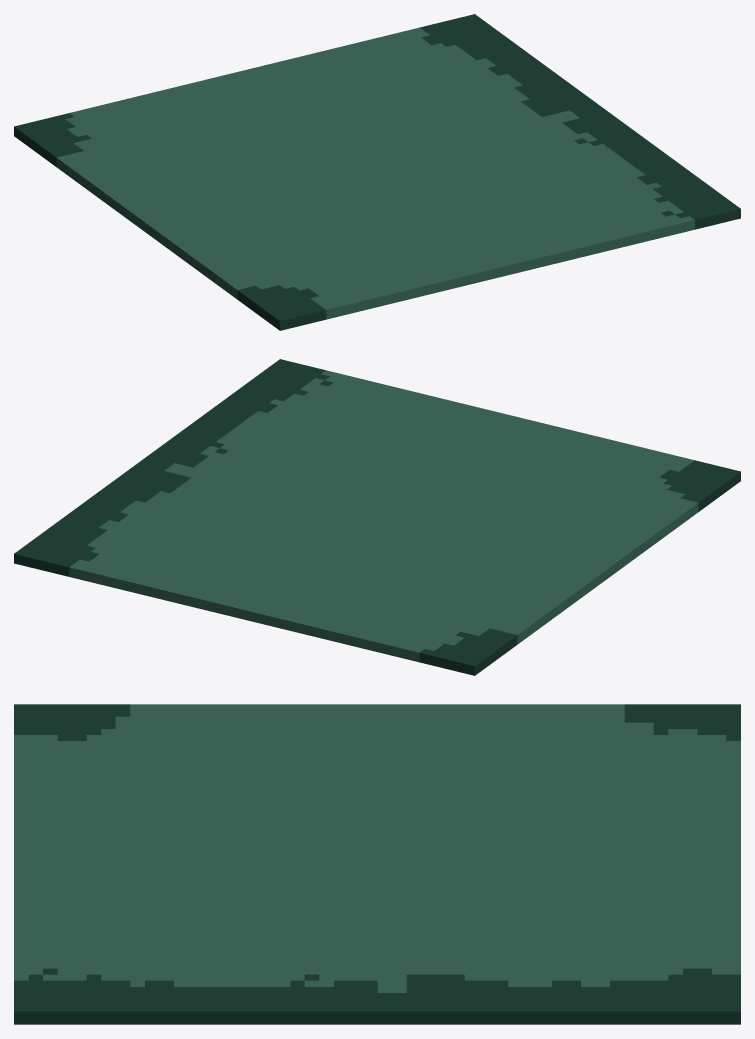
The model's file is ThreeGround.obj.
3 views of the same model, one above another, from view 1: azimuth 30°, elevation 25°; view 2: azimuth 150°, elevation 25°; view 3: azimuth 270°, elevation 25° (orthographic). The views are drawn at different scales.
Size of the model in its own units: 5 by 0.1 by 5.
1 material, 1 textured.
